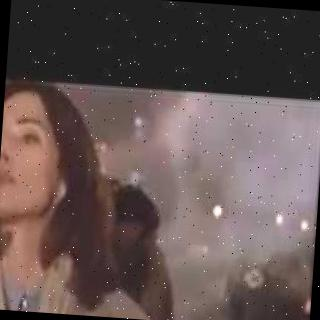smoke: (171, 91, 320, 243)
